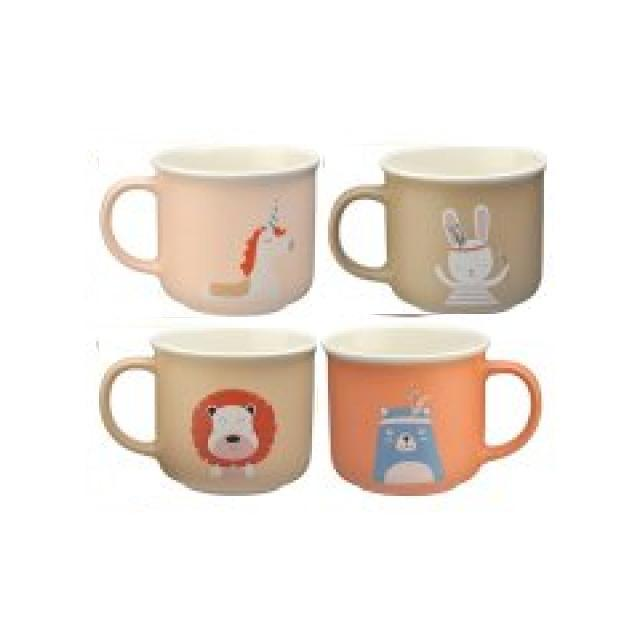Coffee Mug: (99, 144, 320, 317), (325, 146, 547, 314), (99, 328, 317, 496), (326, 328, 544, 496)
